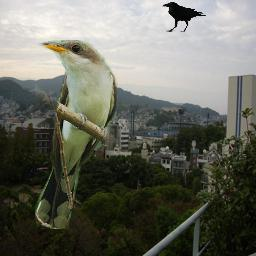Crow: (162, 2, 207, 32)
Cuckoo: (35, 40, 118, 229)
